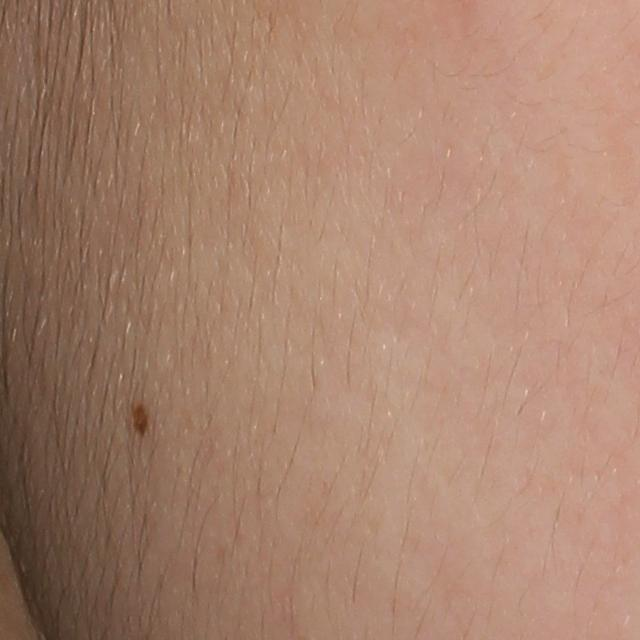nevus: (130, 401, 148, 431)
